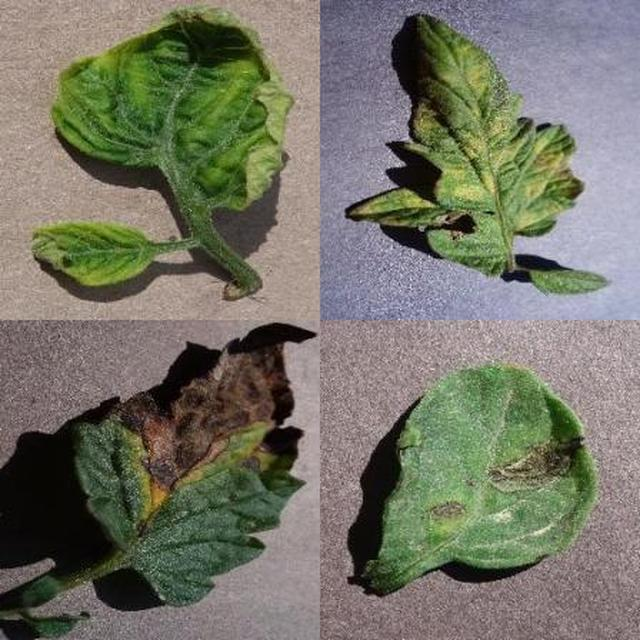Yellow Leaf Curl Virus: (133, 97, 640, 640)
